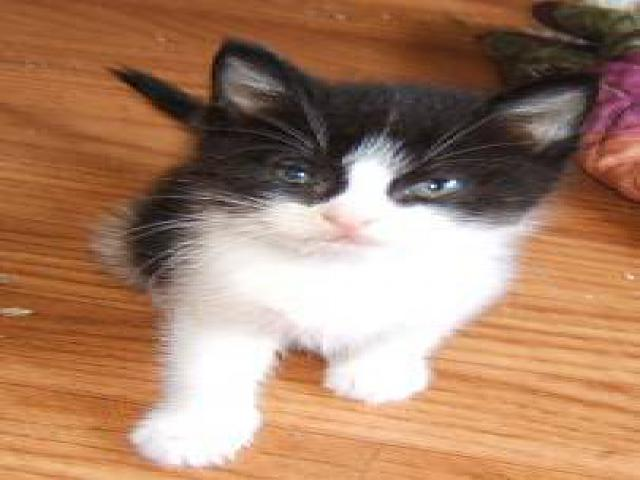cat: (112, 46, 575, 468)
